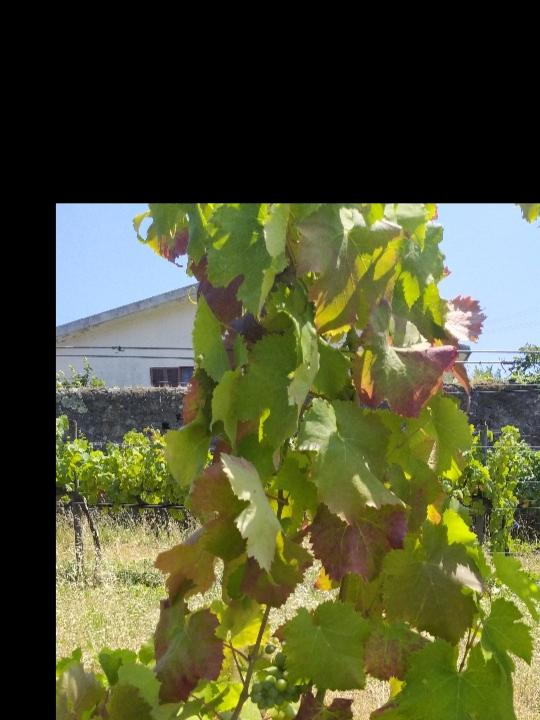grape: (247, 640, 303, 715)
